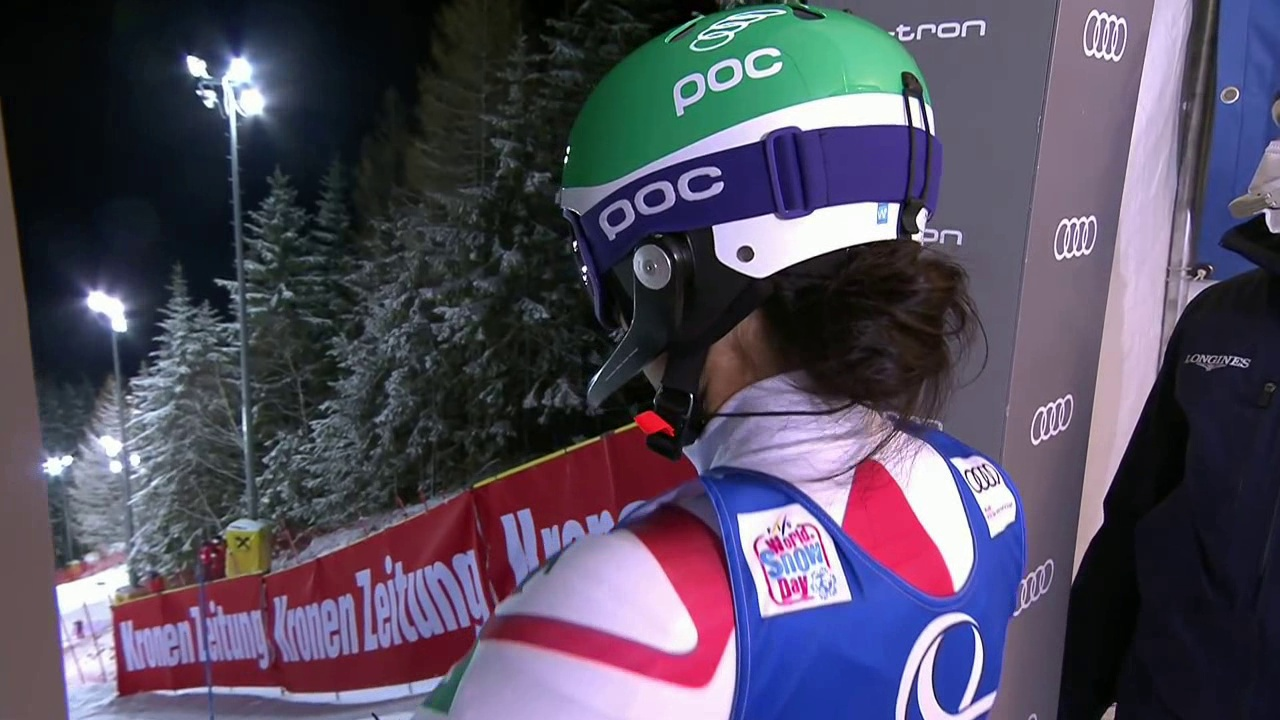audi: (1078, 5, 1134, 75), (1008, 555, 1061, 625), (1047, 210, 1104, 274), (1026, 390, 1080, 456)
kronenzeitung: (284, 508, 472, 691), (127, 580, 259, 690)
